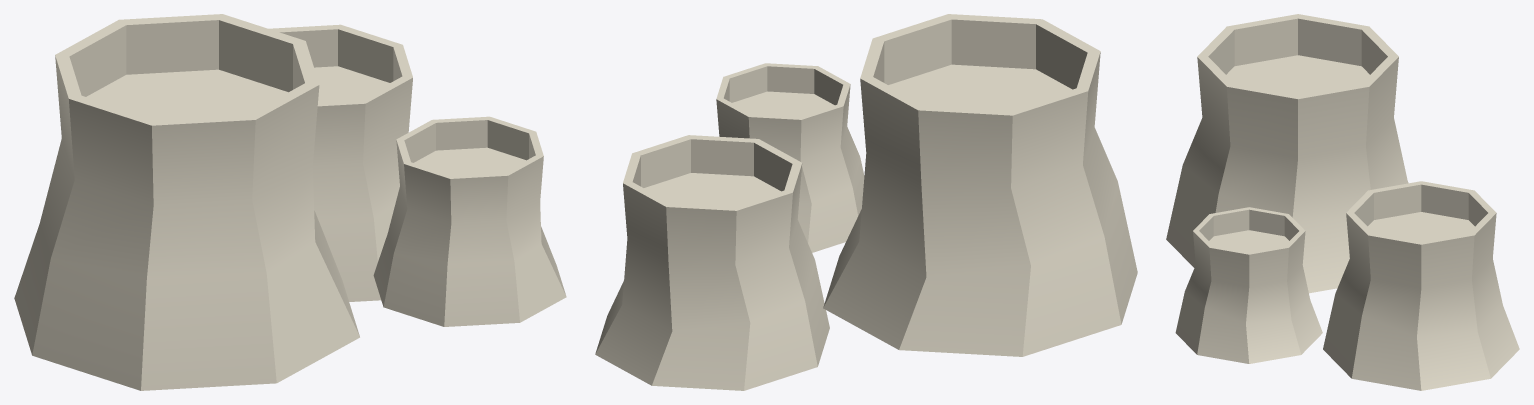
File: Candles.fbx
3 renders of one model, left to right at view 1: azimuth 30°, elevation 25°; view 2: azimuth 150°, elevation 25°; view 3: azimuth 270°, elevation 25°, orthographic. The views are drawn at different scales.
Visible parts, largest first — view 1: Candle_Large, Candle_Small, CAndle_Medium; view 2: Candle_Large, CAndle_Medium, Candle_Small; view 3: Candle_Large, CAndle_Medium, Candle_Small.
Part boxes in pixels (bbox=[...]): Candle_Large: bbox=[14, 14, 359, 390]; Candle_Small: bbox=[373, 116, 566, 326]; CAndle_Medium: bbox=[268, 24, 412, 301]; Candle_Large: bbox=[823, 14, 1137, 356]; CAndle_Medium: bbox=[595, 135, 829, 390]; Candle_Small: bbox=[716, 63, 864, 252]; Candle_Large: bbox=[1166, 14, 1408, 293]; CAndle_Medium: bbox=[1323, 181, 1519, 390]; Candle_Small: bbox=[1175, 207, 1322, 363].
Size of the model in its own units: 2.36 by 1.35 by 2.
